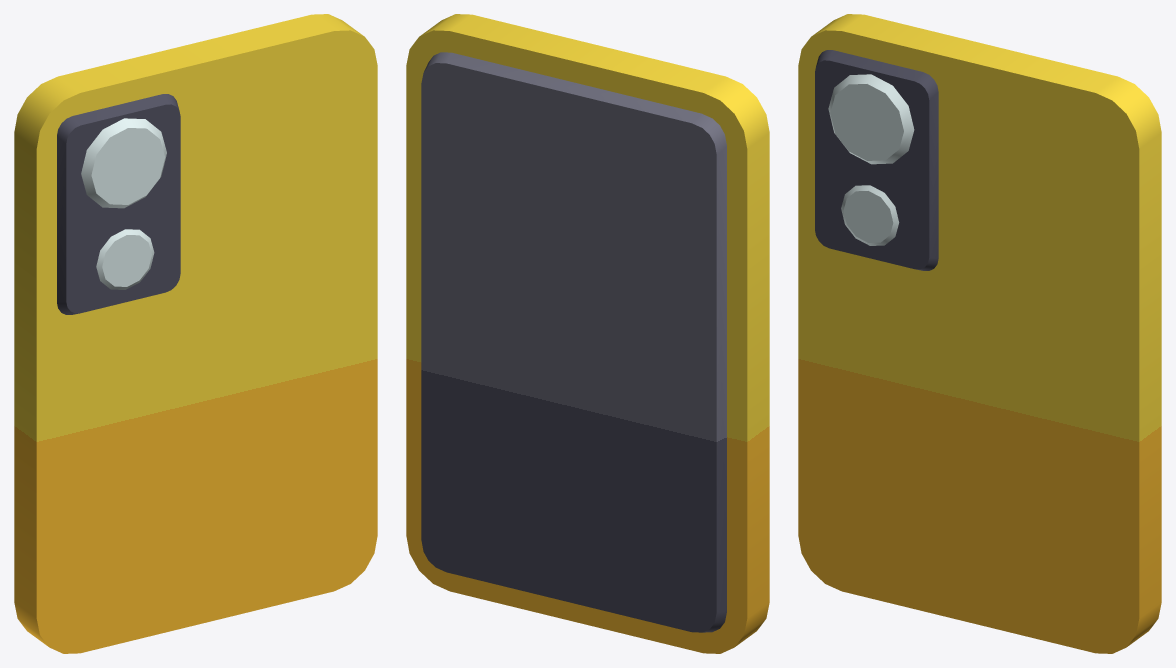
The model's file is CelularAmarillo.fbx.
The picture shows the model from 3 angles, left to right: view 1: azimuth 30°, elevation 25°; view 2: azimuth 150°, elevation 25°; view 3: azimuth 330°, elevation 25°; orthographic projection.
Parts seen in each view (by area): view 1: CelularAmarillo; view 2: CelularAmarillo; view 3: CelularAmarillo.
Boxes of the visible parts, box(x1,y1,x2,y2) form: CelularAmarillo: box(14, 14, 377, 653); CelularAmarillo: box(406, 14, 769, 653); CelularAmarillo: box(798, 14, 1161, 653).
Bounding box in the file's own units: 38.52 × 60.48 × 8.11.
